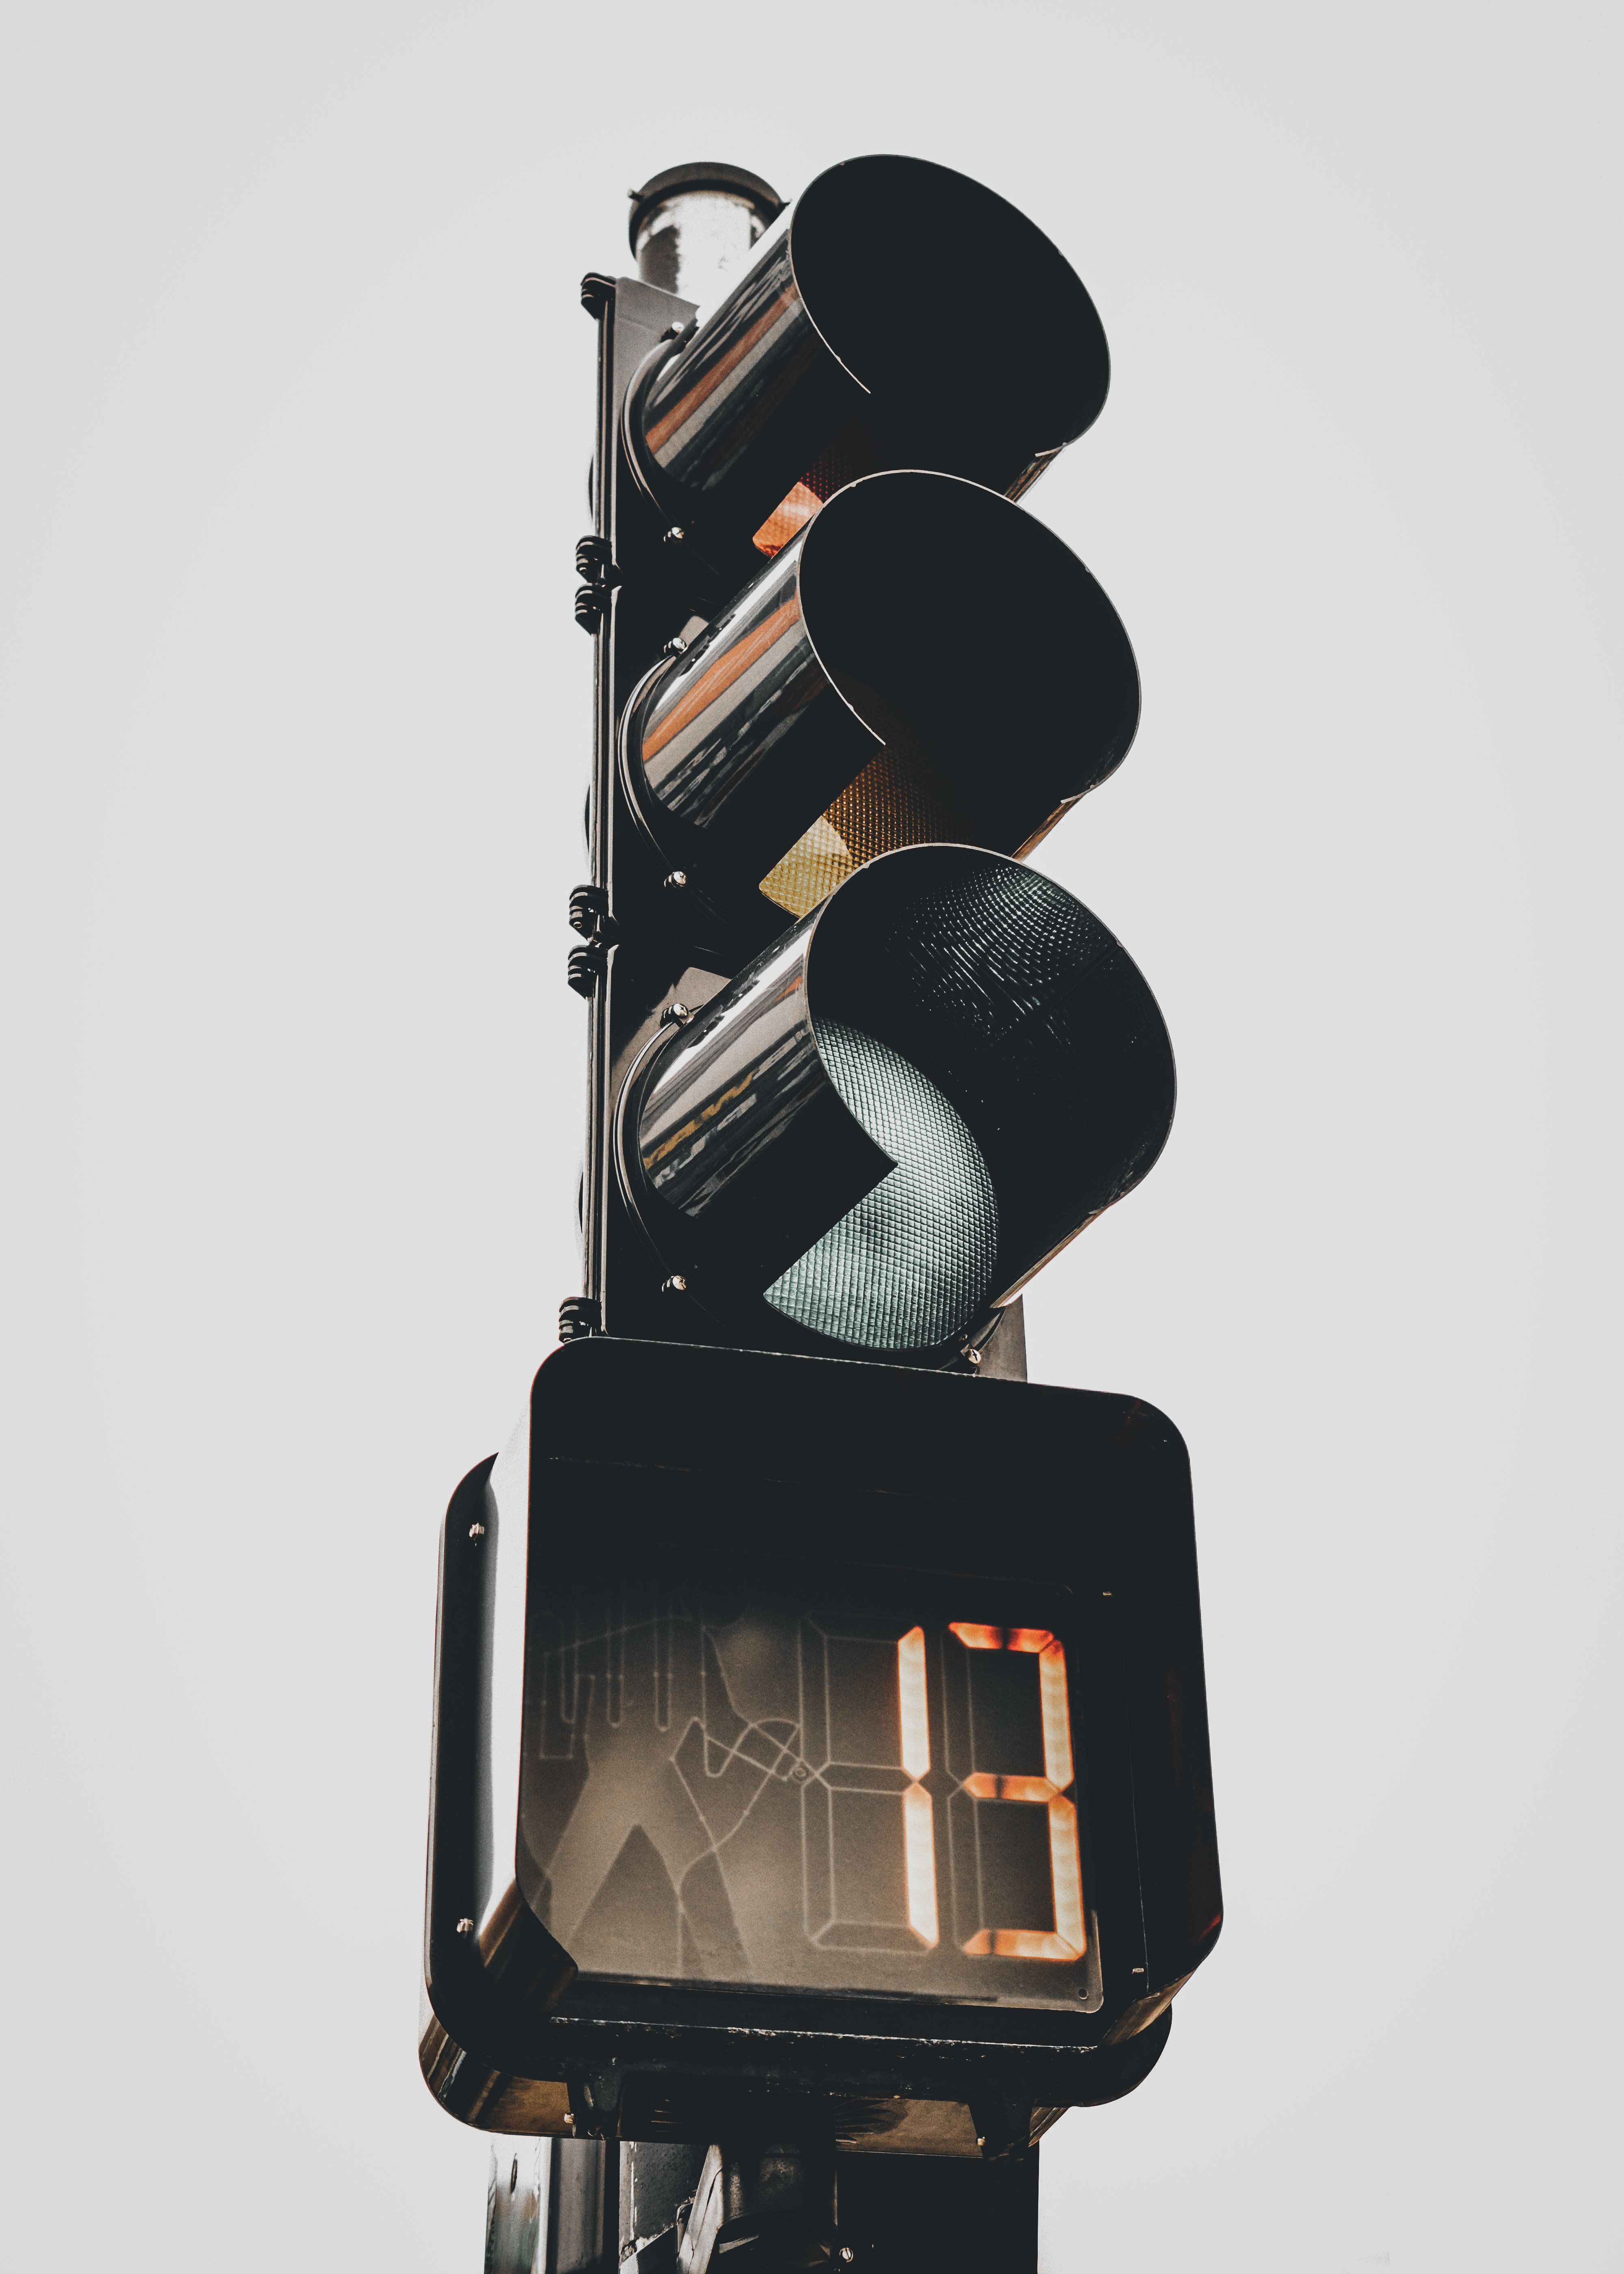trfl: (504, 118, 1185, 1385)
